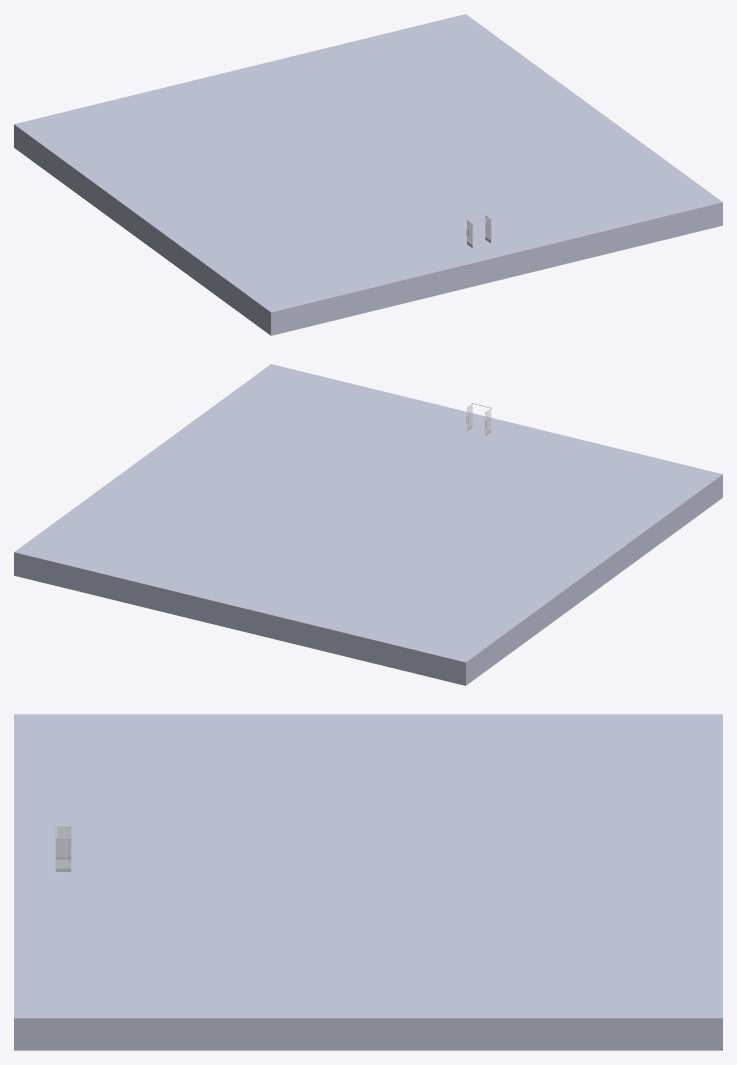
3 views of the same model, one above another, from view 1: azimuth 30°, elevation 25°; view 2: azimuth 150°, elevation 25°; view 3: azimuth 270°, elevation 25° (orthographic). The views are drawn at different scales.
Parts seen in each view (by area): view 1: Cube; view 2: Cube; view 3: Cube.
Part boxes in pixels (bbox=[...]): Cube: bbox=[14, 14, 722, 335]; Cube: bbox=[14, 364, 722, 685]; Cube: bbox=[14, 714, 722, 1050].
Bounding box in the file's own units: 40.31 × 4.13 × 39.73.
